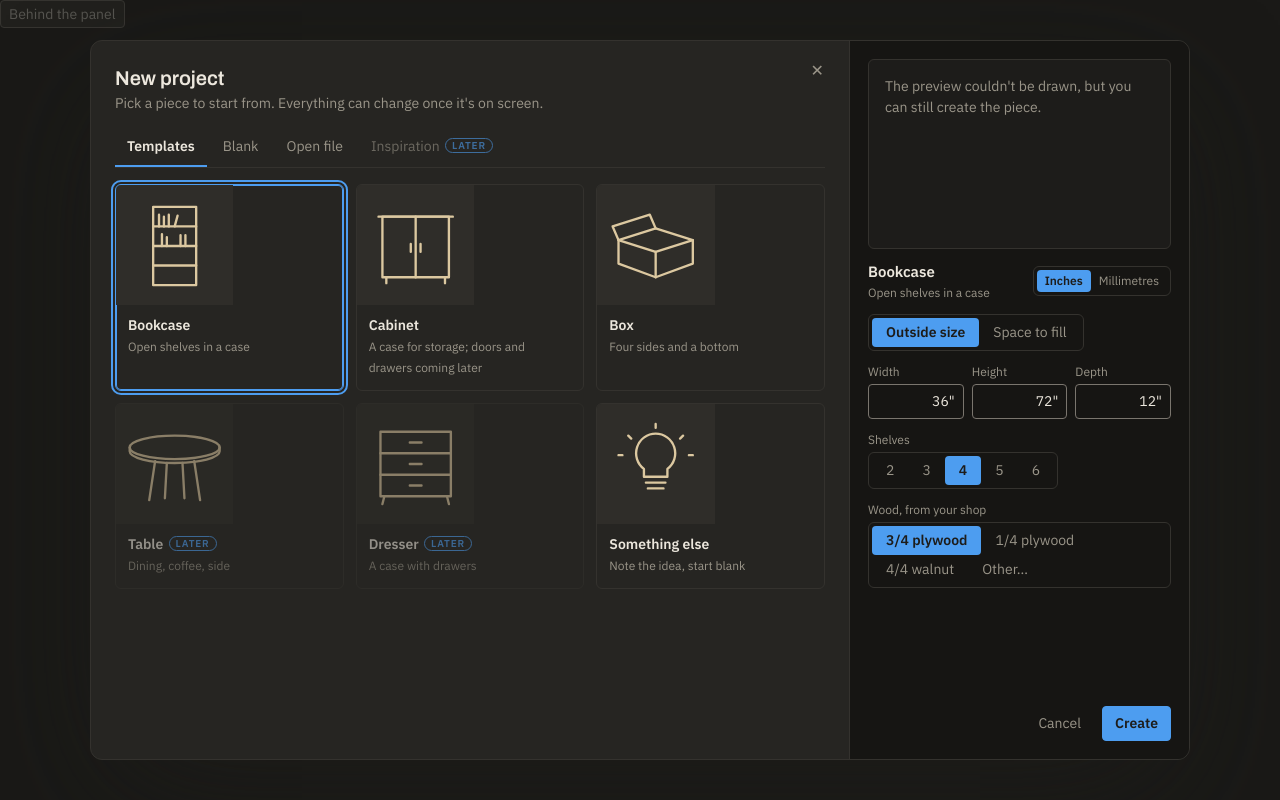
Test case: <NewProject> › refuses a gap bigger than the space and turns Create off
Step 1. Click the button "Space to fill" → click(1030, 332), box [979,318,1080,346]
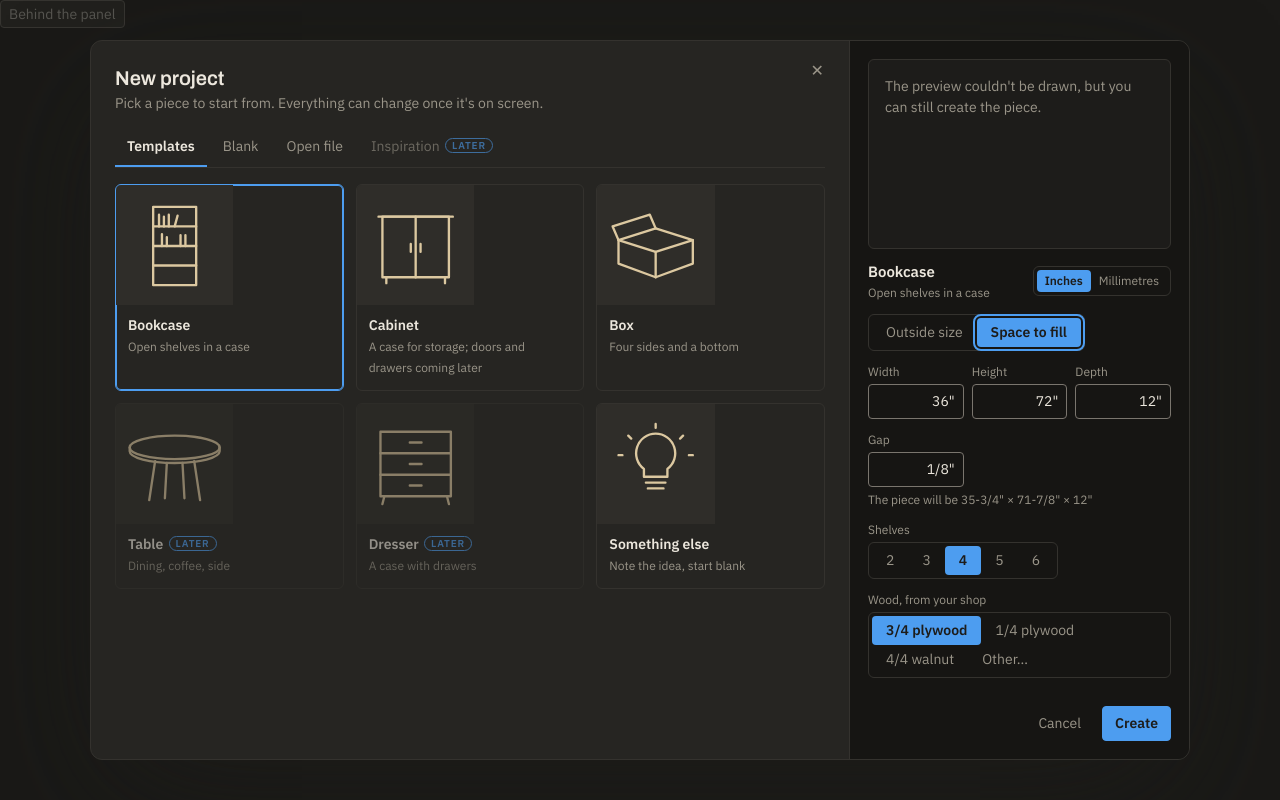
Step 2. Replace the text in the field labelled "Width" with "30\"" → (916, 401), box [868,384,964,418]
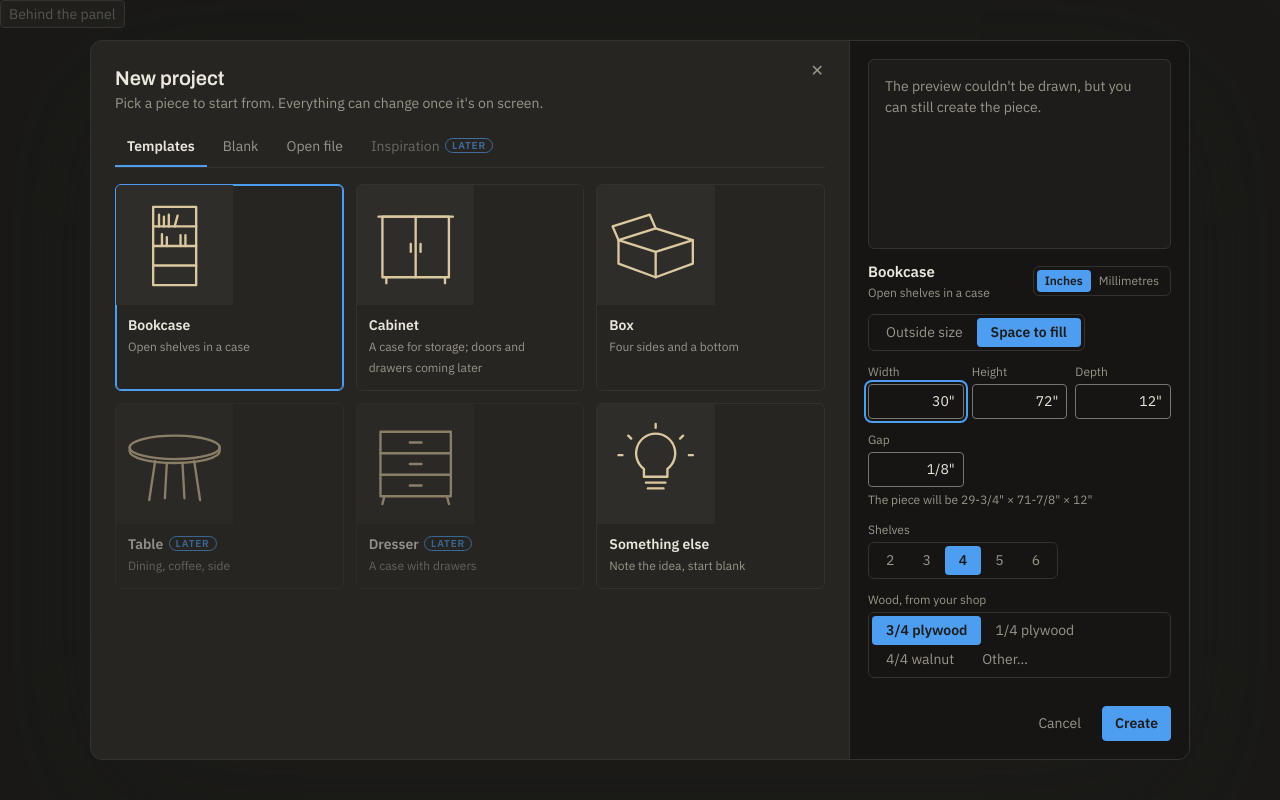
Step 3. Replace the text in the field labelled "Gap" with "16\"" → (916, 469), box [868,452,964,486]
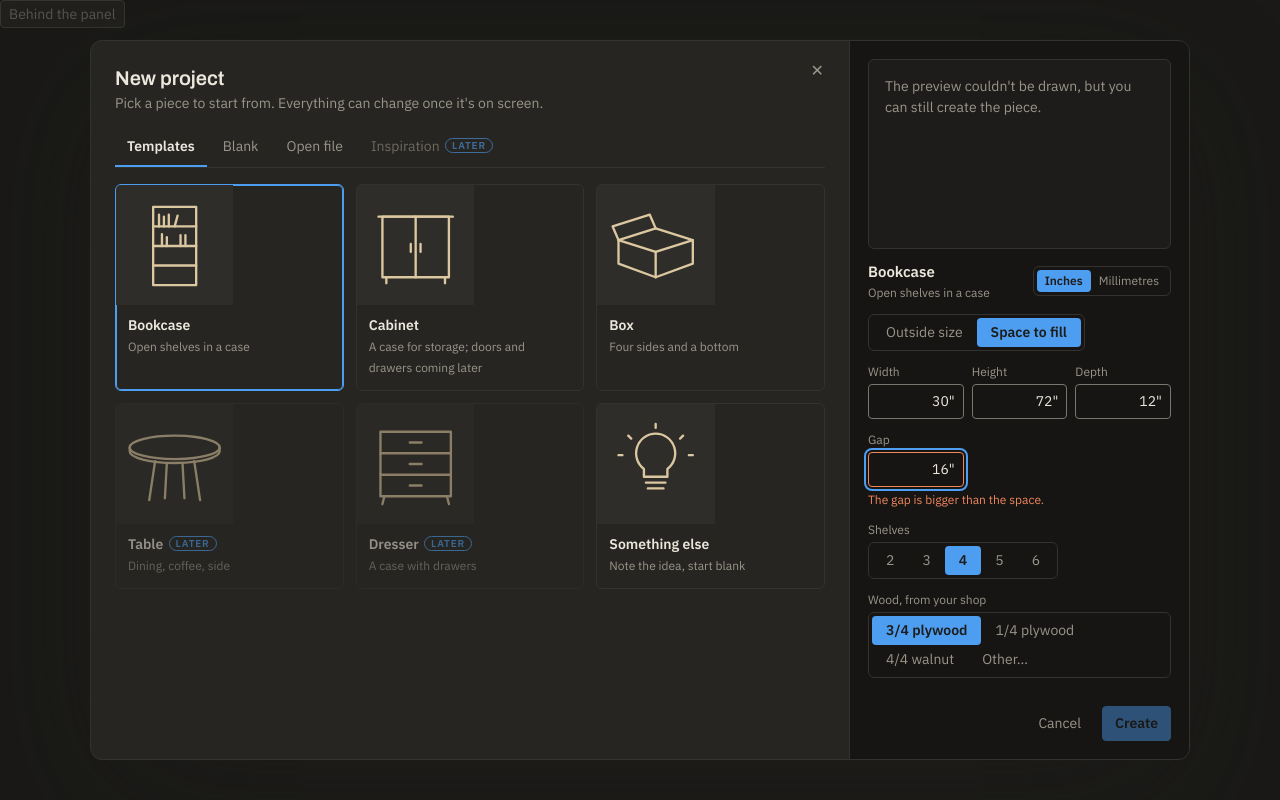
Now the button "Create" is disabled, box [1102,706,1171,741]
Now the text "The gap is bigger than the space." is shown, box [868,492,1044,506]
